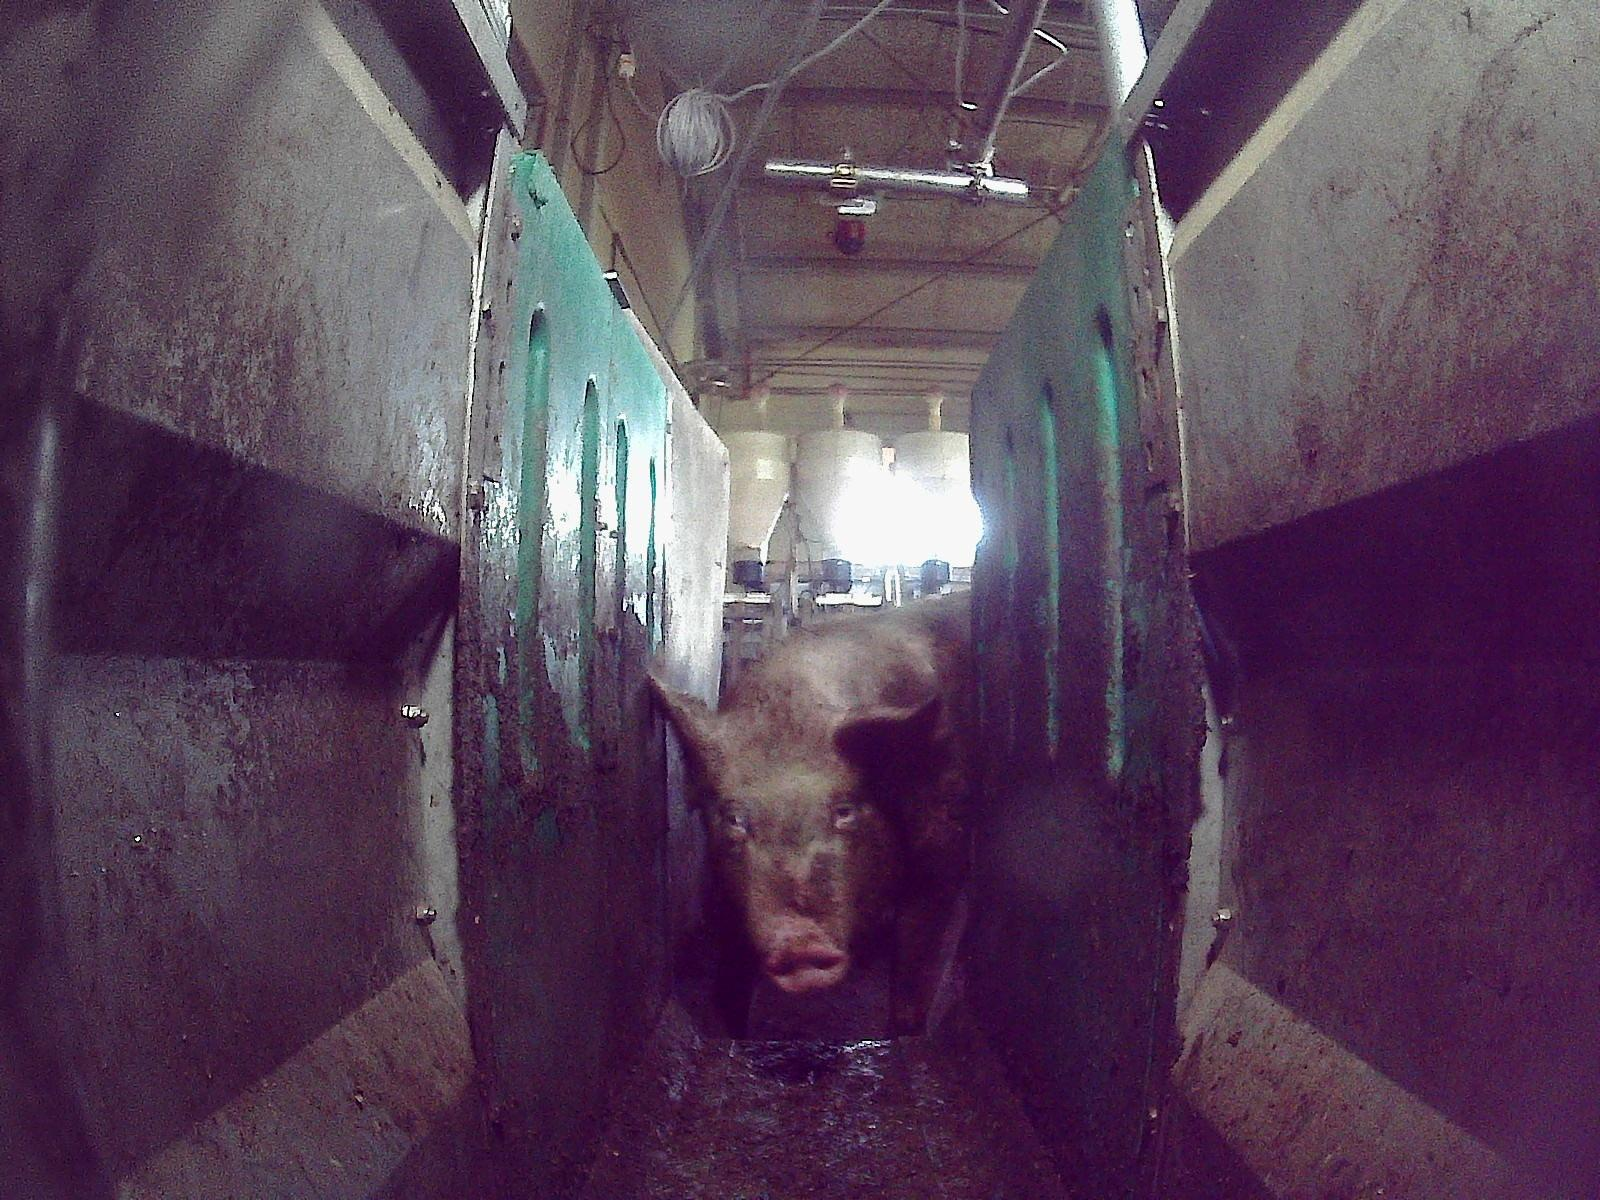Face: (699, 703, 897, 992)
